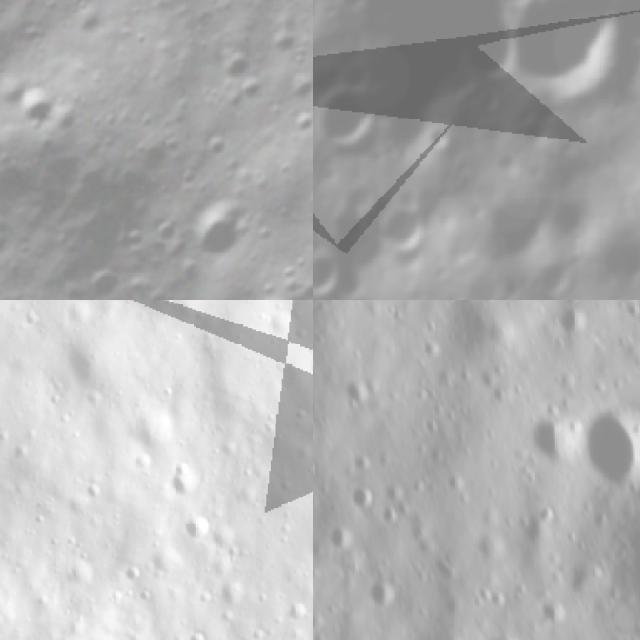crater: (504, 0, 635, 109), (564, 381, 640, 503), (177, 190, 262, 276), (313, 75, 390, 158), (1, 79, 68, 146), (521, 410, 588, 470), (423, 258, 518, 300), (330, 177, 387, 246), (210, 38, 266, 95), (378, 204, 432, 259), (527, 250, 580, 300), (543, 300, 600, 344), (269, 60, 313, 116), (261, 20, 310, 70), (81, 259, 134, 300), (358, 566, 403, 614), (510, 506, 553, 556), (336, 372, 378, 413), (176, 509, 215, 552), (313, 247, 344, 300), (423, 118, 461, 160), (164, 462, 201, 502), (338, 476, 374, 516), (534, 592, 570, 628), (465, 625, 526, 640), (299, 531, 313, 574)
